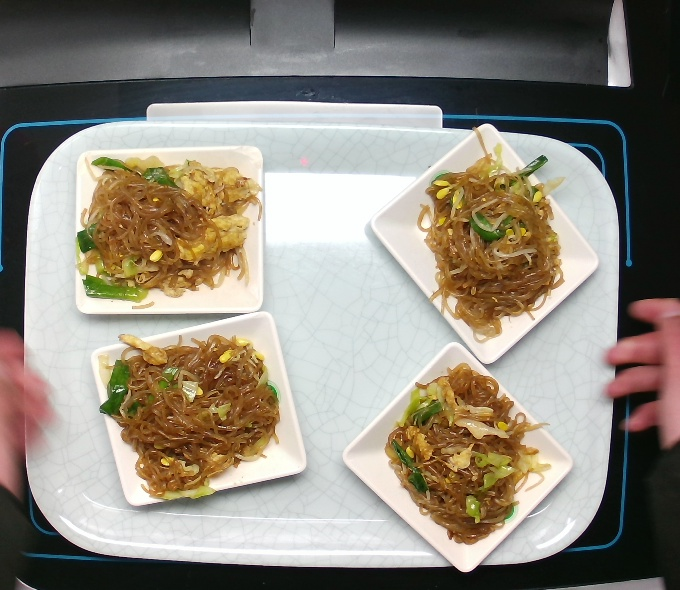wcq-FenSiChaoDan: (409, 123, 574, 352), (91, 326, 288, 508), (380, 358, 555, 547), (71, 152, 265, 313)
